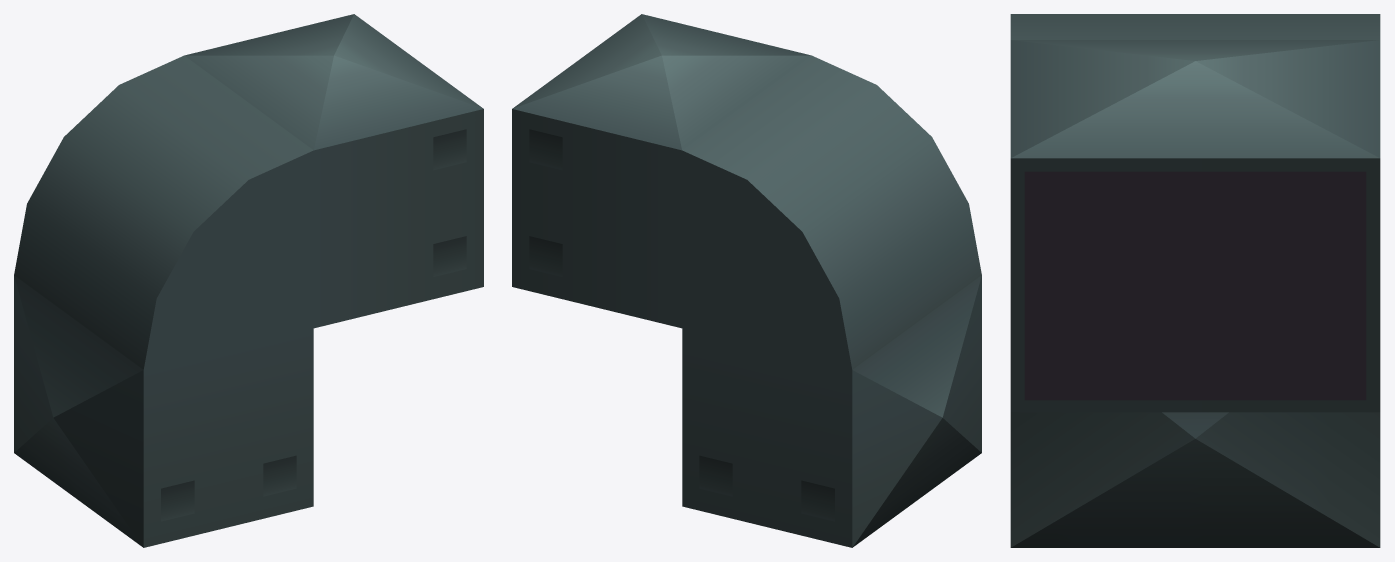
File: Air_Vent_3B.fbx
The picture shows the model from 3 angles, left to right: view 1: azimuth 30°, elevation 25°; view 2: azimuth 150°, elevation 25°; view 3: azimuth 270°, elevation 25°; orthographic projection. The views are drawn at different scales.
Visible parts, largest first — view 1: Air_Vent_3B; view 2: Air_Vent_3B; view 3: Air_Vent_3B.
Boxes of the visible parts, x1,y1,x2,y2 form: Air_Vent_3B: [14, 14, 483, 547]; Air_Vent_3B: [512, 14, 981, 547]; Air_Vent_3B: [1010, 14, 1380, 547].
Size of the model in its own units: 216 by 215 by 132.
